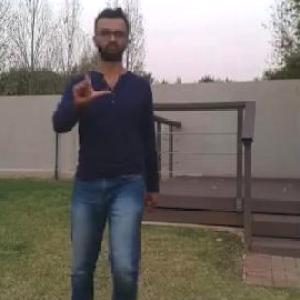land_hand: (71, 59, 115, 108)
